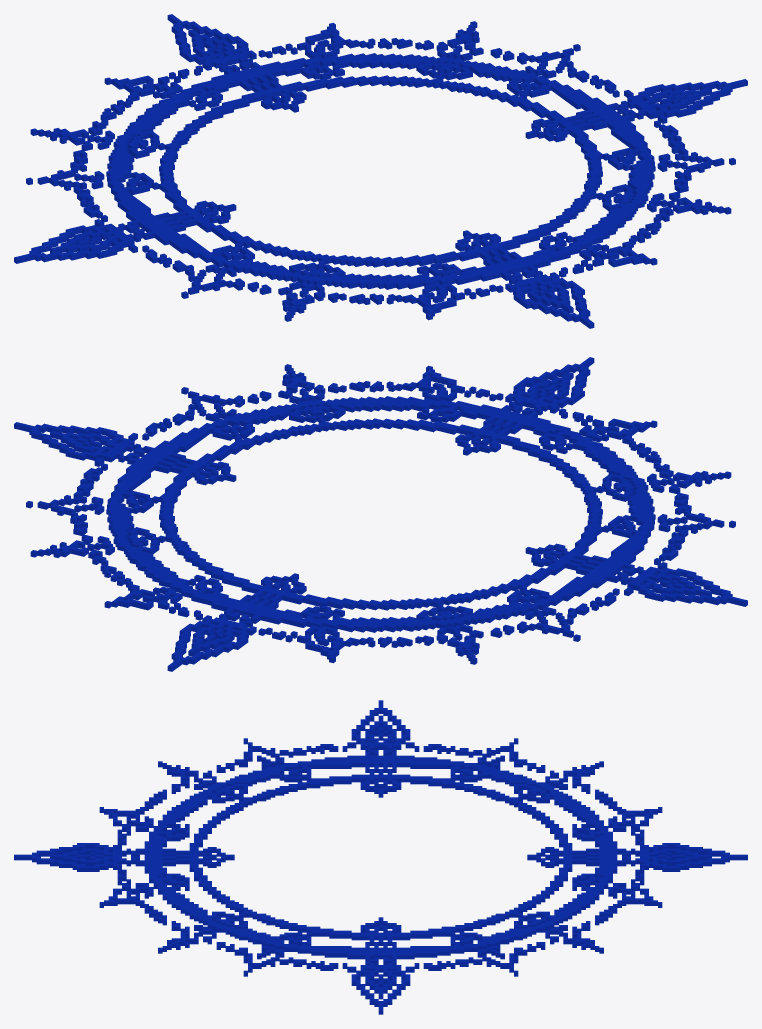
File: 防护力场.gltf
3 renders of one model, top to bottom at view 1: azimuth 30°, elevation 25°; view 2: azimuth 150°, elevation 25°; view 3: azimuth 270°, elevation 25°, orthographic. The views are drawn at different scales.
Visible parts, largest first — view 1: Object; view 2: Object; view 3: Object.
Part boxes in pixels (x1,y1,x2,y2): Object: [14, 14, 747, 328]; Object: [14, 357, 747, 671]; Object: [14, 700, 747, 1014].
Size of the model in its own units: 163 by 1 by 163.
Materials: 1 (1 with a texture image).
